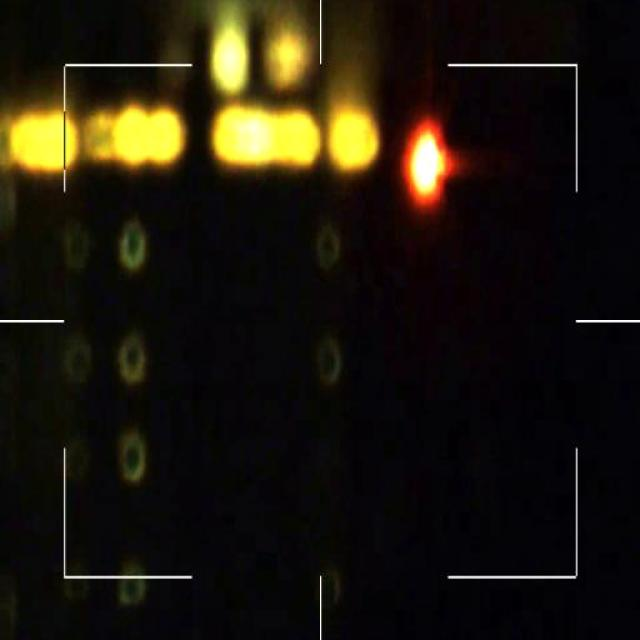bird: (408, 120, 450, 202)
